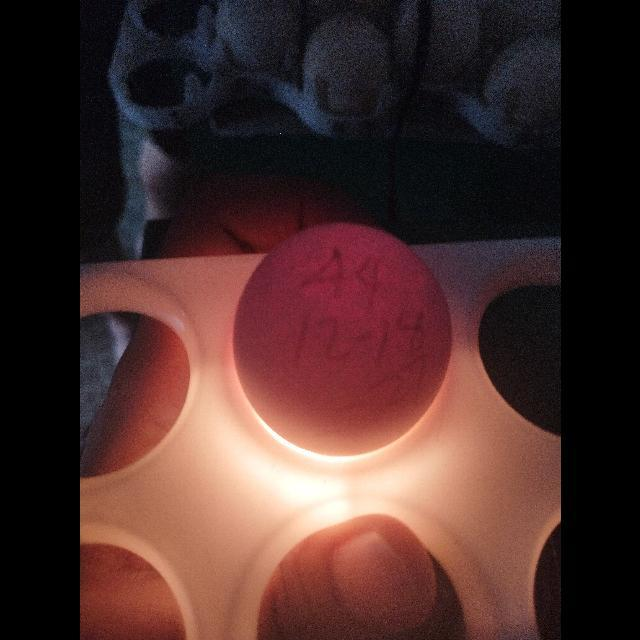Infertile: (228, 218, 457, 466)
